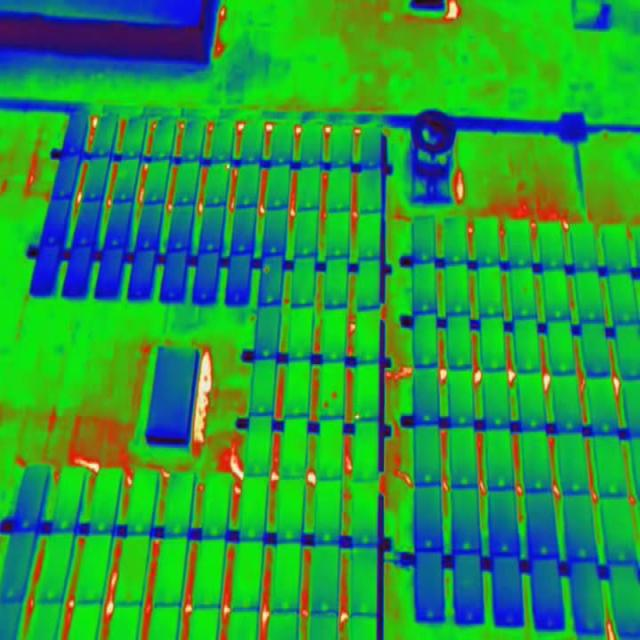Orange-Spots: (331, 392, 338, 402), (323, 401, 330, 409), (264, 265, 270, 274), (225, 162, 230, 170), (354, 414, 360, 419)
